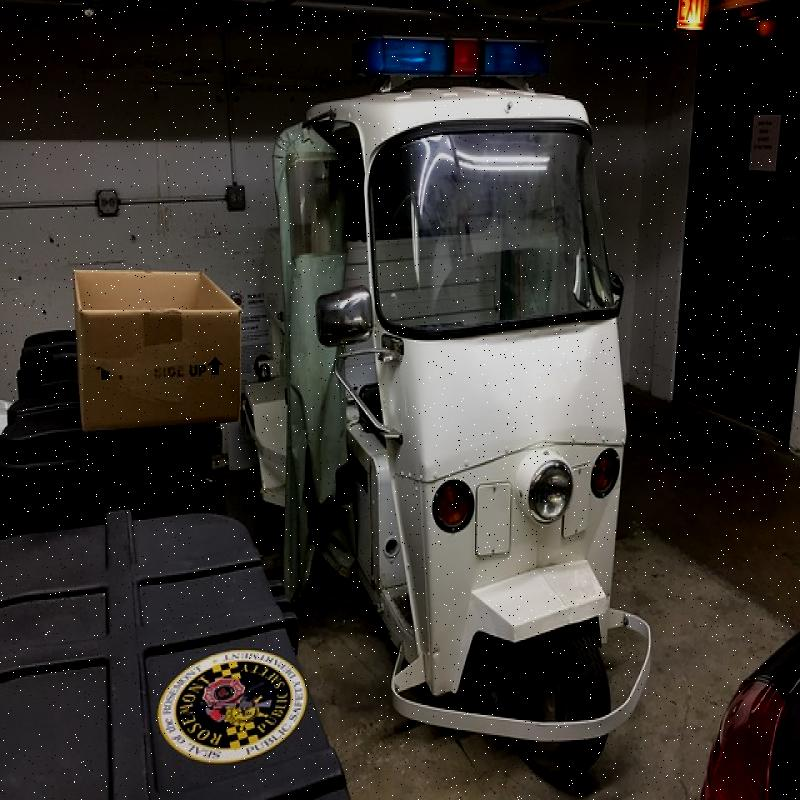AmbulanceSiren: (341, 27, 554, 99)
